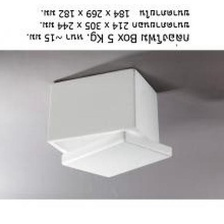foam_box: (39, 63, 181, 183)
